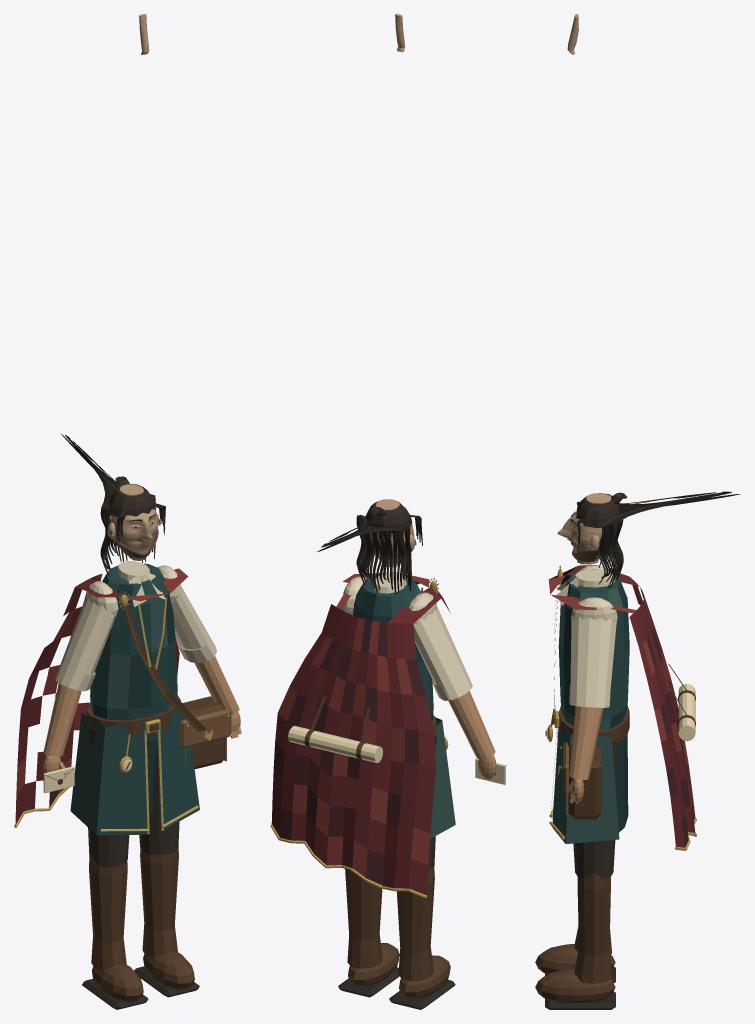
Rendered from courier.glb.
3 renders of one model, left to right at view 1: azimuth 30°, elevation 25°; view 2: azimuth 150°, elevation 25°; view 3: azimuth 270°, elevation 25°, orthographic.
Parts seen in each view (by area): view 1: Waistcoat, Split_coat_R, Cloak_folds, Boot_shaft_R, Boot_shaft_L, Split_coat_L, Linen_sleeve_R, Forearm_R, Face, Trouser_thigh_L, Linen_sleeve_L, Boot_toe_L (+13 smaller); view 2: Cloak_folds, Boot_shaft_R, Boot_shaft_L, Linen_sleeve_R, Waistcoat, Split_coat_R, Map_roll, Forearm_R, Boot_toe_R, Boot_toe_L, Hair_target_top, Boot_sole_R (+1 smaller); view 3: Cloak_folds, Waistcoat, Linen_sleeve_L, Split_coat_L, Boot_shaft_L, Boot_toe_L, Forearm_L, Trouser_thigh_L, Messenger_satchel, Face, Back_coat, Boot_toe_R (+6 smaller).
Part boxes in pixels (box(x1,y1,x2,y2)): Waistcoat: box(90, 563, 177, 741); Split_coat_R: box(70, 712, 147, 835); Cloak_folds: box(15, 568, 188, 824); Boot_shaft_R: box(89, 856, 127, 970); Boot_shaft_L: box(140, 846, 178, 958); Split_coat_L: box(156, 702, 199, 831); Linen_sleeve_R: box(55, 596, 116, 691); Forearm_R: box(43, 683, 81, 756); Face: box(110, 484, 158, 560); Trouser_thigh_L: box(139, 741, 179, 855); Linen_sleeve_L: box(171, 586, 216, 662); Boot_toe_L: box(143, 951, 194, 990); Cloak_folds: box(271, 572, 450, 895); Boot_shaft_R: box(396, 866, 434, 981); Boot_shaft_L: box(345, 869, 382, 968); Linen_sleeve_R: box(413, 605, 472, 700); Waistcoat: box(353, 575, 433, 720); Split_coat_R: box(430, 717, 455, 838); Map_roll: box(288, 726, 382, 762); Forearm_R: box(448, 691, 495, 759); Boot_toe_R: box(399, 955, 450, 998); Boot_toe_L: box(348, 943, 399, 986); Hair_target_top: box(365, 500, 412, 532); Boot_sole_R: box(389, 980, 455, 1009); Cloak_folds: box(548, 565, 695, 847); Waistcoat: box(558, 569, 629, 730); Linen_sleeve_L: box(570, 616, 616, 707); Split_coat_L: box(552, 717, 619, 843); Boot_shaft_L: box(574, 872, 611, 983); Boot_toe_L: box(535, 969, 615, 1003); Forearm_L: box(569, 706, 603, 779); Trouser_thigh_L: box(573, 740, 617, 879); Messenger_satchel: box(568, 744, 601, 819); Face: box(557, 493, 611, 564); Back_coat: box(613, 734, 628, 832); Boot_toe_R: box(535, 944, 615, 974).
Bounding box in the file's own units: 0.7395 × 3.42 × 0.654.
